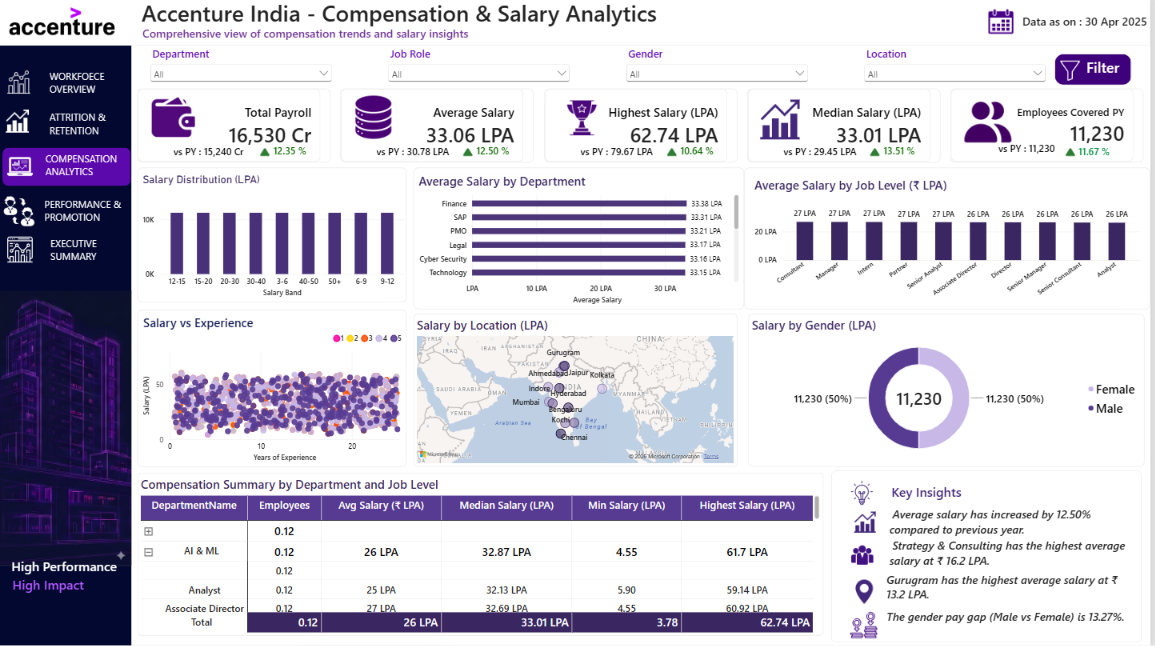

What the dashboard file says about the page in this screenshot:
{"tool":"powerbi","page":{"name":"Compensation Analytics","canvas":[1920,1080],"ordinal":2},"visuals":[{"type":"group","id":"g1","title":"base","box":[0,0,1919.7,1080.3],"z":0},{"type":"shape","box":[0,0,1920,80],"z":0,"group":"g1"},{"type":"image","box":[16.9,13.8,178.5,52.3],"z":0,"group":"g19"},{"type":"slicer","fields":{"Values":["DimDepartment.DepartmentName"]},"box":[247.7,81.5,312.3,60],"z":0,"group":"g5"},{"type":"group","id":"g2","title":"slicer","box":[644.1,81.5,312.3,60],"z":0,"group":"g28"},{"type":"slicer","fields":{"Values":["DimJobLevel.JobLevel"]},"box":[644.1,81.5,312.3,60],"z":0,"group":"g2"},{"type":"slicer","fields":{"Values":["FactAttrition.Gender"]},"box":[1040.5,81.5,312.3,60],"z":0,"group":"g9"},{"type":"slicer","fields":{"Values":["DimLocation.City"]},"box":[1436.9,81.5,312.3,60],"z":0,"group":"g14"},{"type":"shape","box":[1760.6,93.9,128.8,53],"z":0,"group":"g23"},{"type":"group","id":"g3","title":"Button","box":[6.7,109.2,215.4,346.5],"z":0,"group":"g10"},{"type":"actionButton","title":"Button 1","box":[7,109.2,213.7,64],"z":0,"group":"g3"},{"type":"image","box":[9.1,122.7,50.7,38.4],"z":0,"group":"g6"},{"type":"cardVisual","fields":{"Data":["Measure Table.Total Payroll (₹ Cr)"]},"box":[232.3,151.6,321.5,123.1],"z":0,"group":"g4"},{"type":"group","id":"g4","title":"kpi 1","box":[232.3,151.6,321.5,123.1],"z":0,"group":"g26"},{"type":"cardVisual","fields":{"Data":["Measure Table.Average Salary (LPA)"]},"box":[571.1,151.6,321.5,123.1],"z":0,"group":"g7"},{"type":"cardVisual","fields":{"Data":["Measure Table.Highest Salary (LPA)"]},"box":[910,151.6,321.5,123.1],"z":0,"group":"g11"},{"type":"cardVisual","fields":{"Data":["Measure Table.Median Salary (LPA)"]},"box":[1248.8,151.6,321.5,123.1],"z":0,"group":"g15"},{"type":"cardVisual","fields":{"Data":["Measure Table.Employees Covered PY"]},"box":[1587.7,151.6,321.5,123.1],"z":0,"group":"g20"},{"type":"image","box":[9.1,188.1,46.1,38.4],"z":0,"group":"g12"},{"type":"image","box":[9.1,259.4,55.3,46.1],"z":0,"group":"g16"},{"type":"image","box":[9.1,331.4,52.3,52.3],"z":0,"group":"g21"},{"type":"image","box":[9.1,399.1,55.3,43],"z":0,"group":"g24"},{"type":"image","box":[0,456.1,221.2,522.7],"z":0,"group":"g17"},{"type":"shape","box":[1388.2,787.8,516.9,286.2],"z":0,"group":"g27"},{"type":"image","box":[1404.7,802.1,67.9,43.7],"z":0,"group":"g8"},{"type":"image","box":[1414.2,856.7,58.5,35.4],"z":0,"group":"g13"},{"type":"image","box":[1412.6,907.7,52.3,36.9],"z":0,"group":"g18"},{"type":"image","box":[1415.7,968.6,55.4,40],"z":0,"group":"g22"},{"type":"image","box":[1415.3,1023.3,53.8,44.6],"z":0,"group":"g25"},{"type":"textbox","box":[238.6,0,884.6,56.9],"z":1000,"group":"g19"},{"type":"shape","box":[0,80,221.5,1000],"z":1000,"group":"g1"},{"type":"group","id":"g5","title":"slicer","box":[247.7,81.5,312.3,60],"z":1000,"group":"g28"},{"type":"image","box":[1760.6,104.5,53,33.3],"z":1000,"group":"g23"},{"type":"group","id":"g6","title":"PAGE 1","box":[9.1,120.7,195.8,56.7],"z":1000,"group":"g10"},{"type":"textbox","box":[85.7,120.7,119.2,56.7],"z":1000,"group":"g6"},{"type":"group","id":"g7","title":"kpi 2","box":[571.1,151.6,321.5,123.1],"z":1000,"group":"g26"},{"type":"image","box":[929.7,161.3,84.8,77.3],"z":1000,"group":"g11"},{"type":"image","box":[584.7,163.6,83.1,72.3],"z":1000,"group":"g7"},{"type":"image","box":[247.9,163.9,89.9,72.3],"z":1000,"group":"g4"},{"type":"image","box":[1609.4,167.9,81.8,78.8],"z":1000,"group":"g20"},{"type":"image","box":[1264.4,169.7,78.5,66.2],"z":1000,"group":"g15"},{"type":"actionButton","title":"Button 2","box":[8.4,181.7,213.7,64],"z":1000,"group":"g3"},{"type":"textbox","box":[85.8,190.3,119.2,56.7],"z":1000,"group":"g12"},{"type":"textbox","box":[79.8,257.7,141.4,63],"z":1000,"group":"g16"},{"type":"textbox","box":[78.2,334.6,138.4,53.8],"z":1000,"group":"g21"},{"type":"textbox","box":[87.8,399.4,119.2,56.7],"z":1000,"group":"g24"},{"type":"group","id":"g8","title":"key","box":[1404.7,802.1,242.7,43.7],"z":1000,"group":"g27"},{"type":"textbox","box":[1487.9,807.2,159.5,29.5],"z":1000,"group":"g8"},{"type":"textbox","box":[1484.3,847.6,415.8,57.8],"z":1000,"group":"g13"},{"type":"textbox","box":[1484.3,899.7,415.9,62.9],"z":1000,"group":"g18"},{"type":"textbox","box":[21.5,932.9,195.4,35.4],"z":1000,"group":"g17"},{"type":"textbox","box":[1480.9,955.4,415.9,62.9],"z":1000,"group":"g22"},{"type":"textbox","box":[1480.9,1017.9,415.9,62.9],"z":1000,"group":"g25"},{"type":"textbox","box":[240,46.2,784.6,33.8],"z":2000,"group":"g19"},{"type":"group","id":"g9","title":"slicer","box":[1040.5,81.5,312.3,60],"z":2000,"group":"g28"},{"type":"textbox","box":[1813.6,100,63.6,36.4],"z":2000,"group":"g23"},{"type":"group","id":"g10","title":"pages","box":[6.7,109.2,215.4,346.8],"z":2000},{"type":"group","id":"g11","title":"kpi 3","box":[910,151.6,321.5,123.1],"z":2000,"group":"g26"},{"type":"group","id":"g12","title":"PAGE 2","box":[9.1,188.1,196,58.9],"z":2000,"group":"g10"},{"type":"textbox","box":[1668.2,239.9,112.1,22.7],"z":2000,"group":"g20"},{"type":"textbox","box":[292.8,245.4,131.4,26.2],"z":2000,"group":"g4"},{"type":"textbox","box":[631.6,245.4,131.4,26.2],"z":2000,"group":"g7"},{"type":"textbox","box":[970.5,245.4,131.4,26.2],"z":2000,"group":"g11"},{"type":"textbox","box":[1309.3,245.4,131.4,26.2],"z":2000,"group":"g15"},{"type":"actionButton","title":"Button 3","box":[6.7,250,213.7,64],"z":2000,"group":"g3"},{"type":"group","id":"g13","title":"key","box":[1414.2,847.6,485.8,57.8],"z":2000,"group":"g27"},{"type":"textbox","box":[22.7,962.2,178.8,33.3],"z":2000,"group":"g17"},{"type":"actionButton","box":[1758.3,90,131.7,55],"z":2500,"group":"g23"},{"type":"image","box":[1650.7,18.5,41.5,43.1],"z":3000,"group":"g19"},{"type":"group","id":"g14","title":"slicer","box":[1436.9,81.5,312.3,60],"z":3000,"group":"g28"},{"type":"group","id":"g15","title":"kpi 4","box":[1248.8,151.6,321.5,123.1],"z":3000,"group":"g26"},{"type":"image","box":[431.1,248.5,27.7,18.5],"z":3000,"group":"g4"},{"type":"image","box":[769.9,248.5,27.7,18.5],"z":3000,"group":"g7"},{"type":"image","box":[1108.8,248.5,27.7,18.5],"z":3000,"group":"g11"},{"type":"image","box":[1447.6,248.5,27.7,18.5],"z":3000,"group":"g15"},{"type":"group","id":"g16","title":"PAGE 3","box":[9.1,257.7,212.2,63],"z":3000,"group":"g10"},{"type":"actionButton","title":"Button 4","box":[6.7,320,213.7,64],"z":3000,"group":"g3"},{"type":"group","id":"g17","title":"left side pic","box":[0,456.1,221.2,539.4],"z":3000},{"type":"group","id":"g18","title":"key","box":[1412.6,899.7,487.6,62.9],"z":3000,"group":"g27"},{"type":"group","id":"g19","title":"header section","box":[16.9,0,1903.1,80],"z":4000},{"type":"textbox","box":[1706.1,26.2,213.8,30.8],"z":4000,"group":"g19"},{"type":"group","id":"g20","title":"kpi 4","box":[1587.7,151.6,321.5,123.1],"z":4000,"group":"g26"},{"type":"textbox","box":[458.8,243.9,64,26.2],"z":4000,"group":"g4"},{"type":"textbox","box":[797.6,243.9,64,26.2],"z":4000,"group":"g7"},{"type":"textbox","box":[1136.5,243.9,64,26.2],"z":4000,"group":"g11"},{"type":"textbox","box":[1475.3,243.9,64,26.2],"z":4000,"group":"g15"},{"type":"group","id":"g21","title":"PAGE 4","box":[9.1,331.4,207.4,57],"z":4000,"group":"g10"},{"type":"actionButton","title":"Button 5","box":[6.7,391.7,213.7,64],"z":4000,"group":"g3"},{"type":"group","id":"g22","title":"key","box":[1415.7,955.4,481.1,62.9],"z":4000,"group":"g27"},{"type":"group","id":"g23","title":"filter","box":[1758.3,90,131.7,57],"z":5000},{"type":"group","id":"g24","title":"PAGE 5","box":[9.1,399.1,197.9,57],"z":5000,"group":"g10"},{"type":"group","id":"g25","title":"key","box":[1415.3,1017.9,481.5,62.9],"z":5000,"group":"g27"},{"type":"group","id":"g26","title":"KPI","box":[232.3,151.6,1676.9,123.1],"z":6000},{"type":"image","box":[1773.8,247.7,26.2,18.5],"z":7000},{"type":"textbox","box":[1800,244.6,64.6,21.5],"z":8000},{"type":"clusteredColumnChart","title":"Salary Distribution (LPA)","fields":{"Category":["FactCompensation.Salary Band"],"Y":["Measure Table.Employees Covered PY"]},"box":[231.8,283.3,448.5,224.2],"z":9000},{"type":"clusteredBarChart","title":"Average Salary by Department","fields":{"Category":["DimDepartment.DepartmentName"],"Y":["Measure Table.Average Salary"]},"box":[692.4,283.3,551.5,236.4],"z":10000},{"type":"clusteredColumnChart","title":"Average Salary by Job Level (₹ LPA) ","fields":{"Category":["DimJobLevel.JobLevel"],"Y":["Measure Table.Avg Salary (₹ LPA)"]},"box":[1244,283,676,236],"z":11000},{"type":"scatterChart","title":"Salary vs Experience","fields":{"Category":["FactCompensation.EmployeeID"],"Series":["FactPerformance.PerformanceRating"],"X":["Avg(FactWorkforce.YearsExperience)"],"Y":["Avg(FactCompensation.TotalSalaryLPA)"]},"box":[231.8,519.7,448.5,262.1],"z":12000},{"type":"map","title":"Salary by Location (LPA)","fields":{"Category":["DimLocation.City"],"Size":["Measure Table.Employees Covered YoY %"]},"box":[692.3,526.2,540,255.4],"z":13000},{"type":"donutChart","title":"Salary by Gender (LPA)","fields":{"Category":["DimEmployee.Gender"],"Y":["Measure Table.Employees Covered PY"]},"box":[1249.2,526.2,660,255.4],"z":14000},{"type":"pivotTable","title":"Compensation Summary by Department and Job Level","fields":{"Rows":["DimDepartment.DepartmentName","DimJobLevel.JobLevel"],"Values":["Measure Table.Employees Covered YoY %","Measure Table.Avg Salary (₹ LPA)","Measure Table.Median Salary","Measure Table.Min Salary (LPA)","Measure Table.Highest Salary"]},"box":[232.3,792.3,1143.1,272.3],"z":15000},{"type":"group","id":"g27","title":"key insights","box":[1388.2,787.8,516.9,293],"z":16000},{"type":"group","id":"g28","title":"slicer","box":[247.7,81.5,1501.5,60],"z":17000}]}

Visuals, with their boxes on the page's 1920x1080 design canvas (x1, y1, x2, y2). These are canvas units, not pixel positions in the 1155x646 screenshot, which may show the page scaled, cropped or inside an application window:
"base" group: region(0, 0, 1920, 1080)
shape: region(0, 0, 1920, 80)
image: region(17, 14, 195, 66)
slicer - DimDepartment.DepartmentName: region(248, 82, 560, 142)
"slicer" group: region(644, 82, 956, 142)
slicer - DimJobLevel.JobLevel: region(644, 82, 956, 142)
slicer - FactAttrition.Gender: region(1040, 82, 1353, 142)
slicer - DimLocation.City: region(1437, 82, 1749, 142)
shape: region(1761, 94, 1889, 147)
"Button" group: region(7, 109, 222, 456)
"Button 1" actionButton: region(7, 109, 221, 173)
image: region(9, 123, 60, 161)
cardVisual - Measure Table.Total Payroll (₹ Cr): region(232, 152, 554, 275)
"kpi 1" group: region(232, 152, 554, 275)
cardVisual - Measure Table.Average Salary (LPA): region(571, 152, 893, 275)
cardVisual - Measure Table.Highest Salary (LPA): region(910, 152, 1232, 275)
cardVisual - Measure Table.Median Salary (LPA): region(1249, 152, 1570, 275)
cardVisual - Measure Table.Employees Covered PY: region(1588, 152, 1909, 275)
image: region(9, 188, 55, 226)
image: region(9, 259, 64, 306)
image: region(9, 331, 61, 384)
image: region(9, 399, 64, 442)
image: region(0, 456, 221, 979)
shape: region(1388, 788, 1905, 1074)
image: region(1405, 802, 1473, 846)
image: region(1414, 857, 1473, 892)
image: region(1413, 908, 1465, 945)
image: region(1416, 969, 1471, 1009)
image: region(1415, 1023, 1469, 1068)
textbox: region(239, 0, 1123, 57)
shape: region(0, 80, 222, 1080)
"slicer" group: region(248, 82, 560, 142)
image: region(1761, 104, 1814, 138)
"PAGE 1" group: region(9, 121, 205, 177)
textbox: region(86, 121, 205, 177)
"kpi 2" group: region(571, 152, 893, 275)
image: region(930, 161, 1014, 239)
image: region(585, 164, 668, 236)
image: region(248, 164, 338, 236)
image: region(1609, 168, 1691, 247)
image: region(1264, 170, 1343, 236)
"Button 2" actionButton: region(8, 182, 222, 246)
textbox: region(86, 190, 205, 247)
textbox: region(80, 258, 221, 321)
textbox: region(78, 335, 217, 388)
textbox: region(88, 399, 207, 456)
"key" group: region(1405, 802, 1647, 846)
textbox: region(1488, 807, 1647, 837)
textbox: region(1484, 848, 1900, 905)
textbox: region(1484, 900, 1900, 963)
textbox: region(22, 933, 217, 968)
textbox: region(1481, 955, 1897, 1018)
textbox: region(1481, 1018, 1897, 1081)
textbox: region(240, 46, 1025, 80)
"slicer" group: region(1040, 82, 1353, 142)
textbox: region(1814, 100, 1877, 136)
"pages" group: region(7, 109, 222, 456)
"kpi 3" group: region(910, 152, 1232, 275)
"PAGE 2" group: region(9, 188, 205, 247)
textbox: region(1668, 240, 1780, 263)
textbox: region(293, 245, 424, 272)
textbox: region(632, 245, 763, 272)
textbox: region(970, 245, 1102, 272)
textbox: region(1309, 245, 1441, 272)
"Button 3" actionButton: region(7, 250, 220, 314)
"key" group: region(1414, 848, 1900, 905)
textbox: region(23, 962, 202, 996)
actionButton: region(1758, 90, 1890, 145)
image: region(1651, 18, 1692, 62)
"slicer" group: region(1437, 82, 1749, 142)
"kpi 4" group: region(1249, 152, 1570, 275)
image: region(431, 248, 459, 267)
image: region(770, 248, 798, 267)
image: region(1109, 248, 1136, 267)
image: region(1448, 248, 1475, 267)
"PAGE 3" group: region(9, 258, 221, 321)
"Button 4" actionButton: region(7, 320, 220, 384)
"left side pic" group: region(0, 456, 221, 996)
"key" group: region(1413, 900, 1900, 963)
"header section" group: region(17, 0, 1920, 80)
textbox: region(1706, 26, 1920, 57)
"kpi 4" group: region(1588, 152, 1909, 275)
textbox: region(459, 244, 523, 270)
textbox: region(798, 244, 862, 270)
textbox: region(1136, 244, 1200, 270)
textbox: region(1475, 244, 1539, 270)
"PAGE 4" group: region(9, 331, 216, 388)
"Button 5" actionButton: region(7, 392, 220, 456)
"key" group: region(1416, 955, 1897, 1018)
"filter" group: region(1758, 90, 1890, 147)
"PAGE 5" group: region(9, 399, 207, 456)
"key" group: region(1415, 1018, 1897, 1081)
"KPI" group: region(232, 152, 1909, 275)
image: region(1774, 248, 1800, 266)
textbox: region(1800, 245, 1865, 266)
"Salary Distribution (LPA)" clusteredColumnChart: region(232, 283, 680, 508)
"Average Salary by Department" clusteredBarChart: region(692, 283, 1244, 520)
"Average Salary by Job Level (₹ LPA) " clusteredColumnChart: region(1244, 283, 1920, 519)
"Salary vs Experience" scatterChart: region(232, 520, 680, 782)
"Salary by Location (LPA)" map: region(692, 526, 1232, 782)
"Salary by Gender (LPA)" donutChart: region(1249, 526, 1909, 782)
"Compensation Summary by Department and Job Level" pivotTable: region(232, 792, 1375, 1065)
"key insights" group: region(1388, 788, 1905, 1081)
"slicer" group: region(248, 82, 1749, 142)
